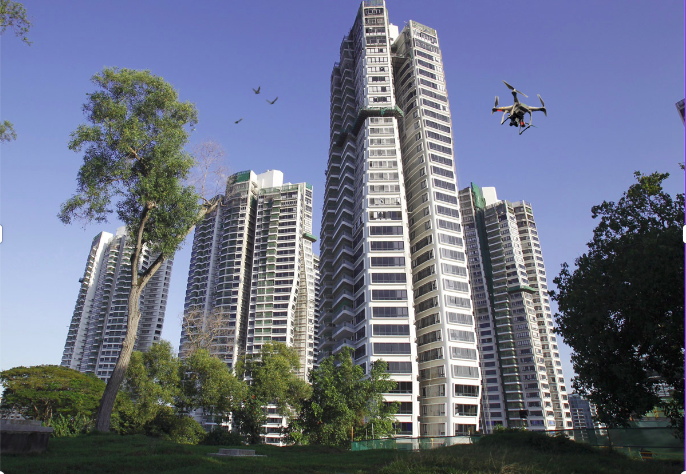drone_other: (491, 80, 546, 135)
